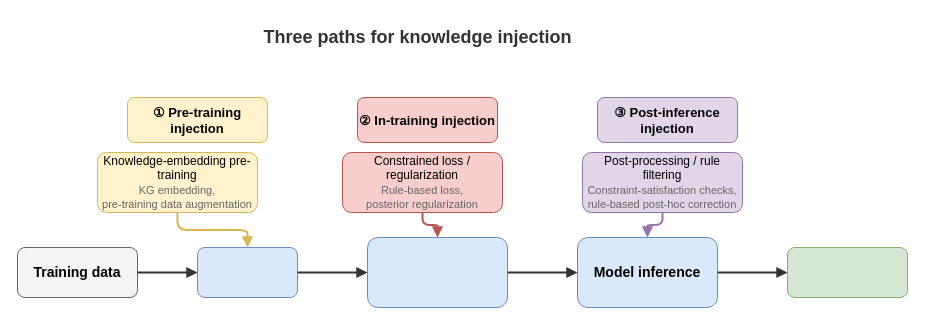
Image size: 925x325. Some labels were removed from this diagram. The shapes that lost their labels are listed below. From the top down, each one's centre as x and y in pixels, then its label:
At point 247,272: "Preprocessing".
At point 437,272: "Model training".
At point 847,272: "Final output".
